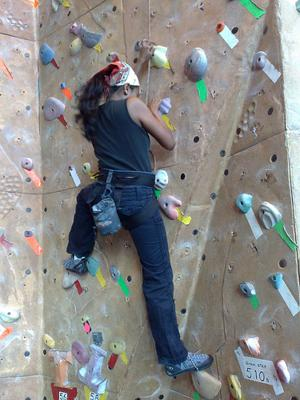person: (65, 41, 215, 378)
